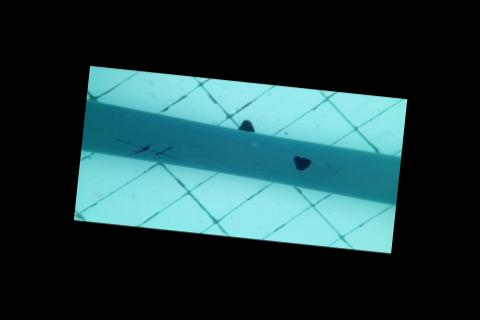kebocoran: (290, 155, 311, 173)
keretakan: (115, 139, 178, 161)
